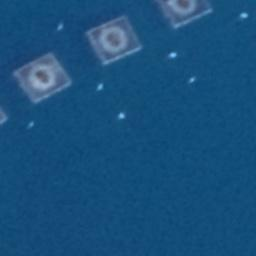square_cover: (10, 47, 73, 110), (80, 12, 148, 70), (156, 1, 217, 35)
